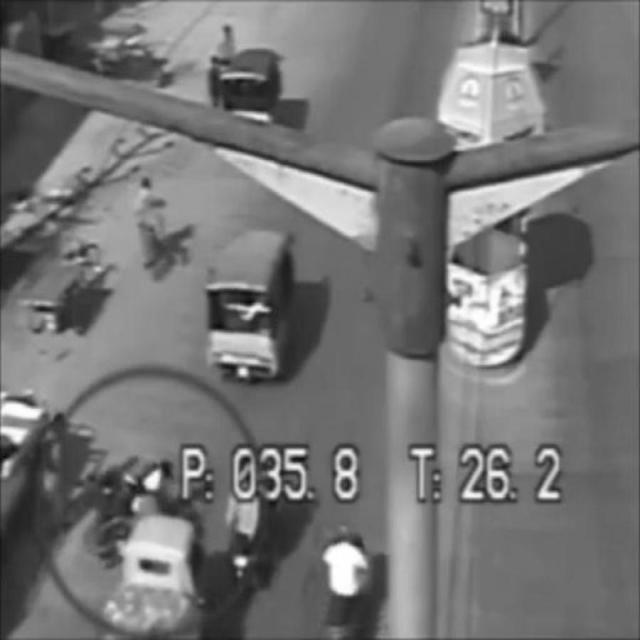vehicle: (204, 221, 292, 379), (110, 516, 193, 636), (321, 517, 375, 635), (133, 173, 181, 281)
